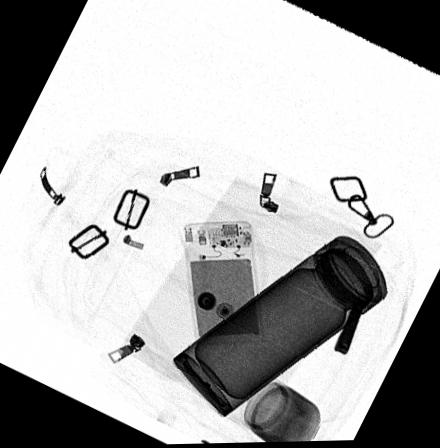Powerbank: (179, 220, 262, 348)
